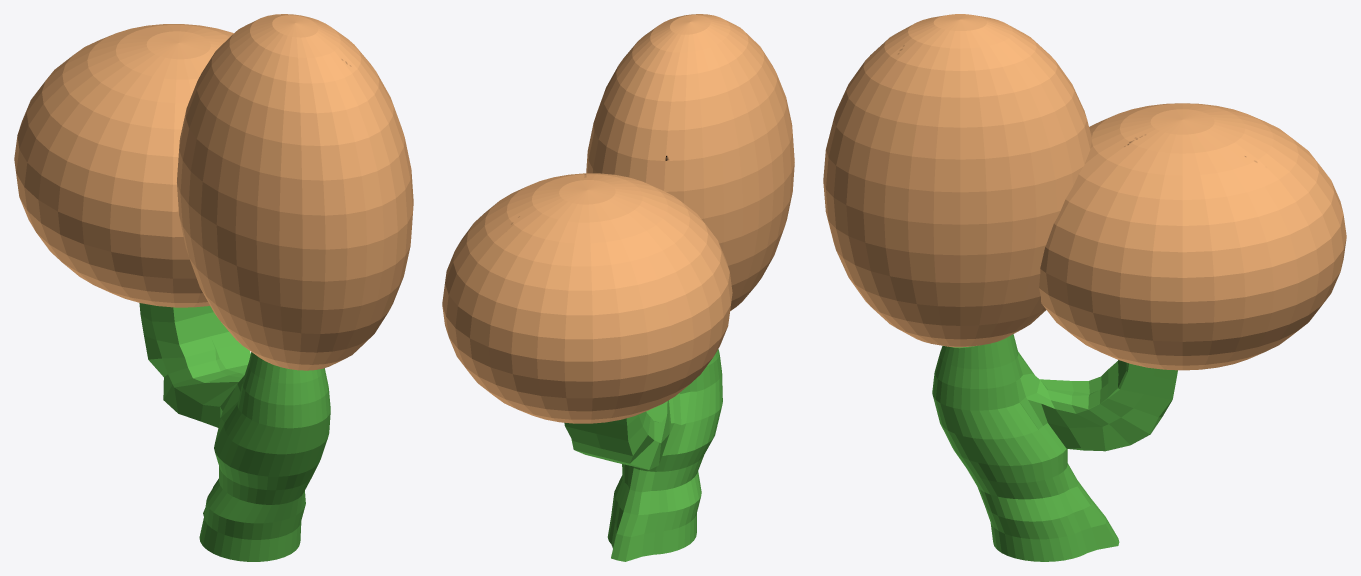
Rendered from Big Flower 2T.fbx.
The picture shows the model from 3 angles, left to right: view 1: azimuth 30°, elevation 25°; view 2: azimuth 150°, elevation 25°; view 3: azimuth 270°, elevation 25°; orthographic projection. The views are drawn at different scales.
Visible parts, largest first — view 1: Cylinder; view 2: Cylinder; view 3: Cylinder.
Part boxes in pixels (x1=…): Cylinder: x1=14, y1=14, x2=413, y2=561; Cylinder: x1=442, y1=14, x2=794, y2=561; Cylinder: x1=823, y1=14, x2=1346, y2=561.
Bounding box in the file's own units: 24.91 × 46.54 × 42.2.
